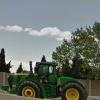Tractor: (10, 51, 93, 100)
